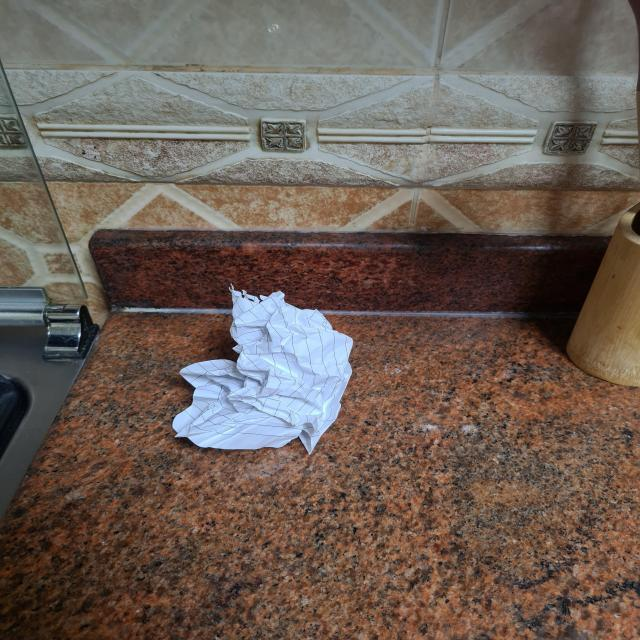cardboard paper: (172, 288, 351, 451)
